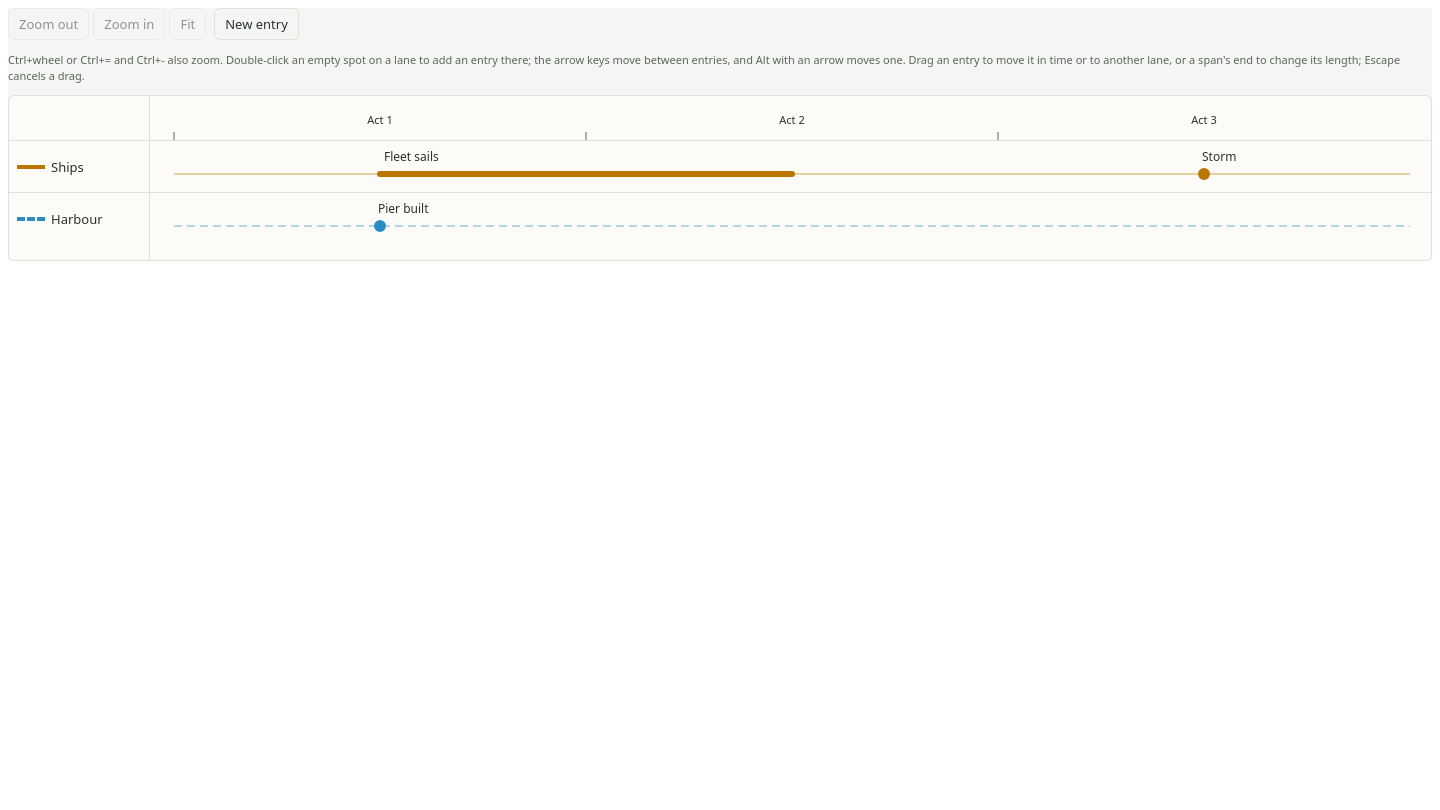
Test: dragging an entry on the drawing › opens an entry on a click that hardly moves, and drags nothing with another button
The width and height of the screenshot is (1440, 810).
Press the mouse on the button with aria-label "Harbour: Pier built, Act 1" at (403, 209), box x1=374 y1=200 x2=432 y2=218
Press the mouse on the button with aria-label "Harbour: Pier built, Act 1" at (403, 209), box x1=374 y1=200 x2=432 y2=218
Click the button with aria-label "Harbour: Pier built, Act 1" at (403, 209), box x1=374 y1=200 x2=432 y2=218
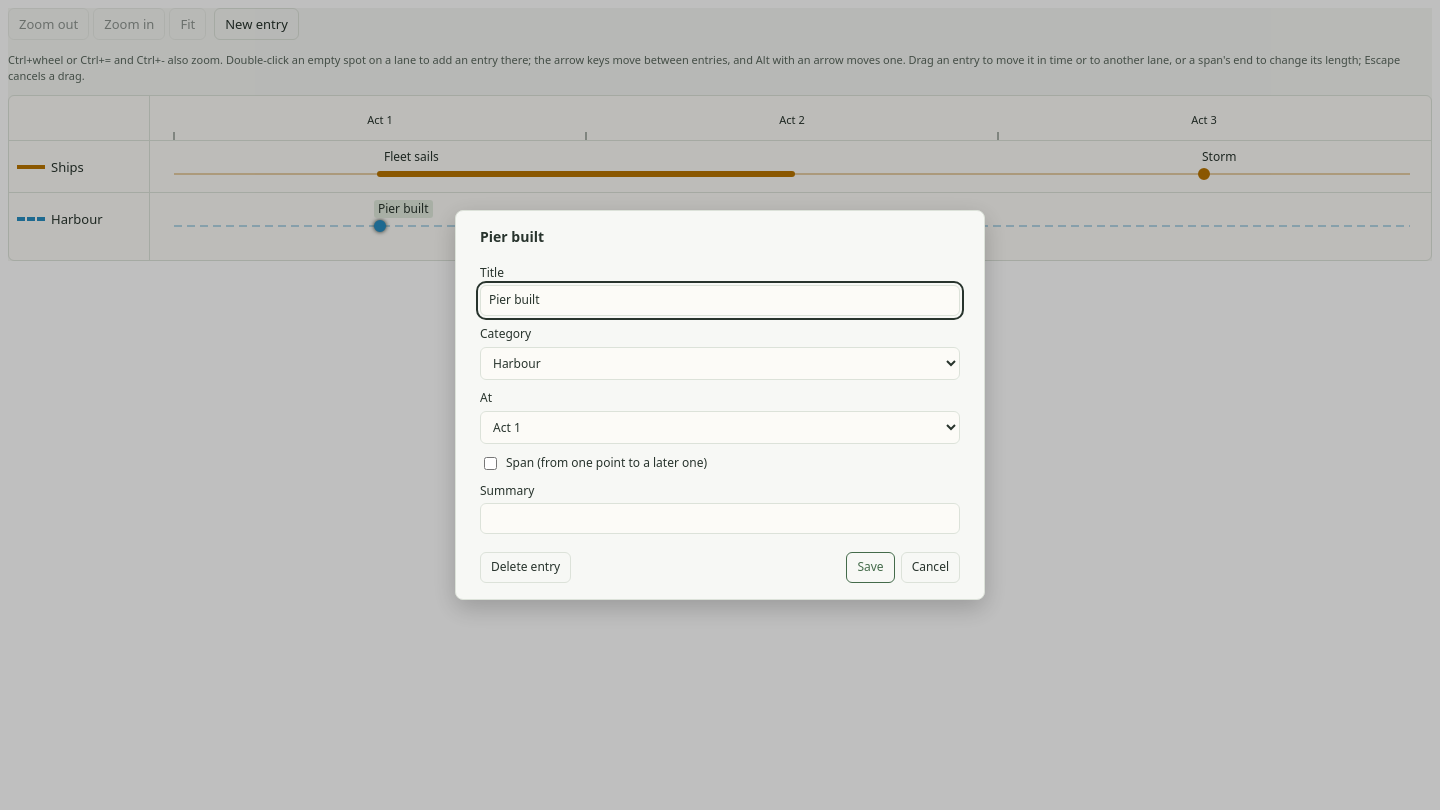
Expected: the dialog "Pier built" is shown, x1=455 y1=210 x2=985 y2=600
